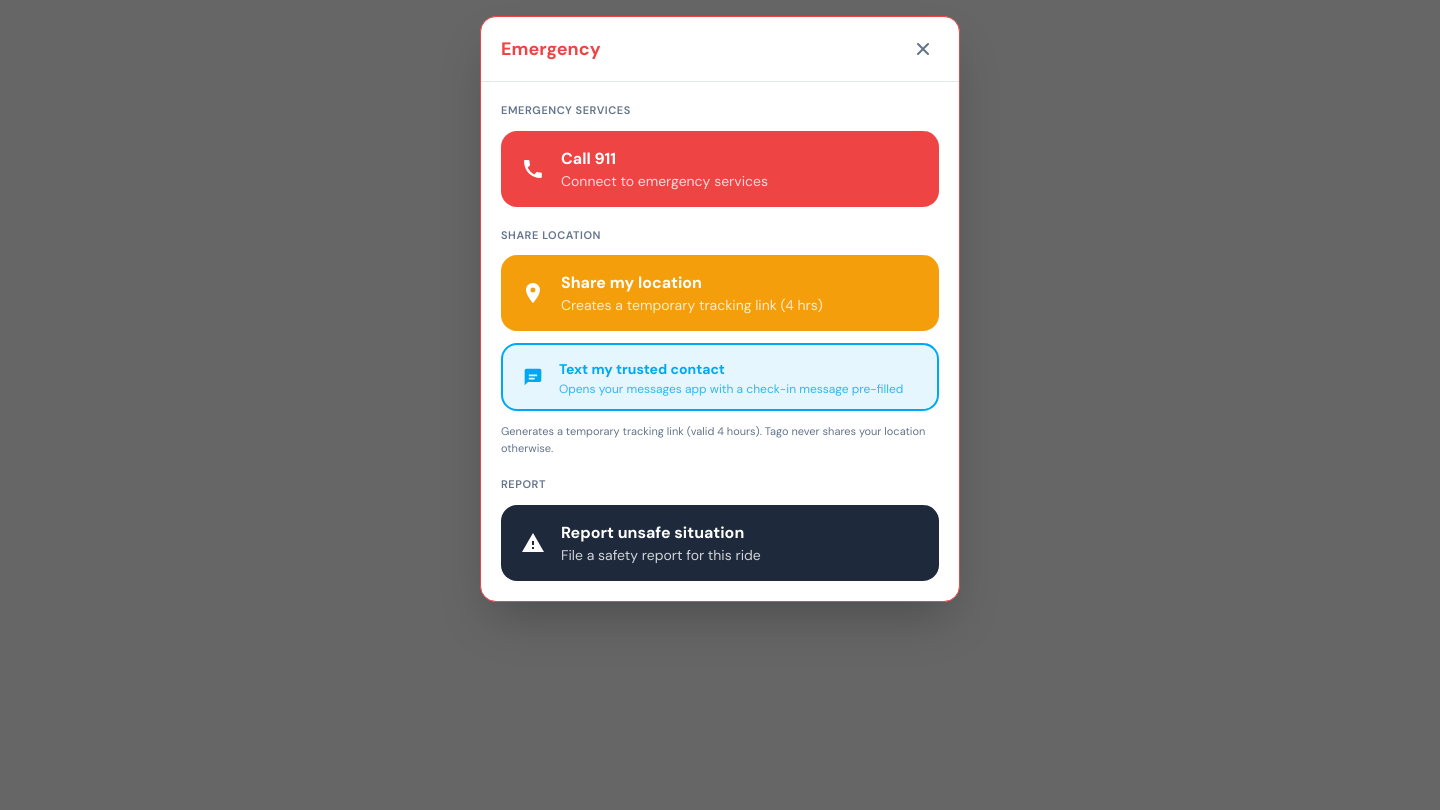
Test: EmergencySheet › Text trusted contacts on DESKTOP opens the desktop sms-fallback dialog (no sms: navigation)
The image size is (1440, 810).
Click the button with test id "emergency-text-trusted-contacts".
click(720, 377)  # box [501,343,939,411]
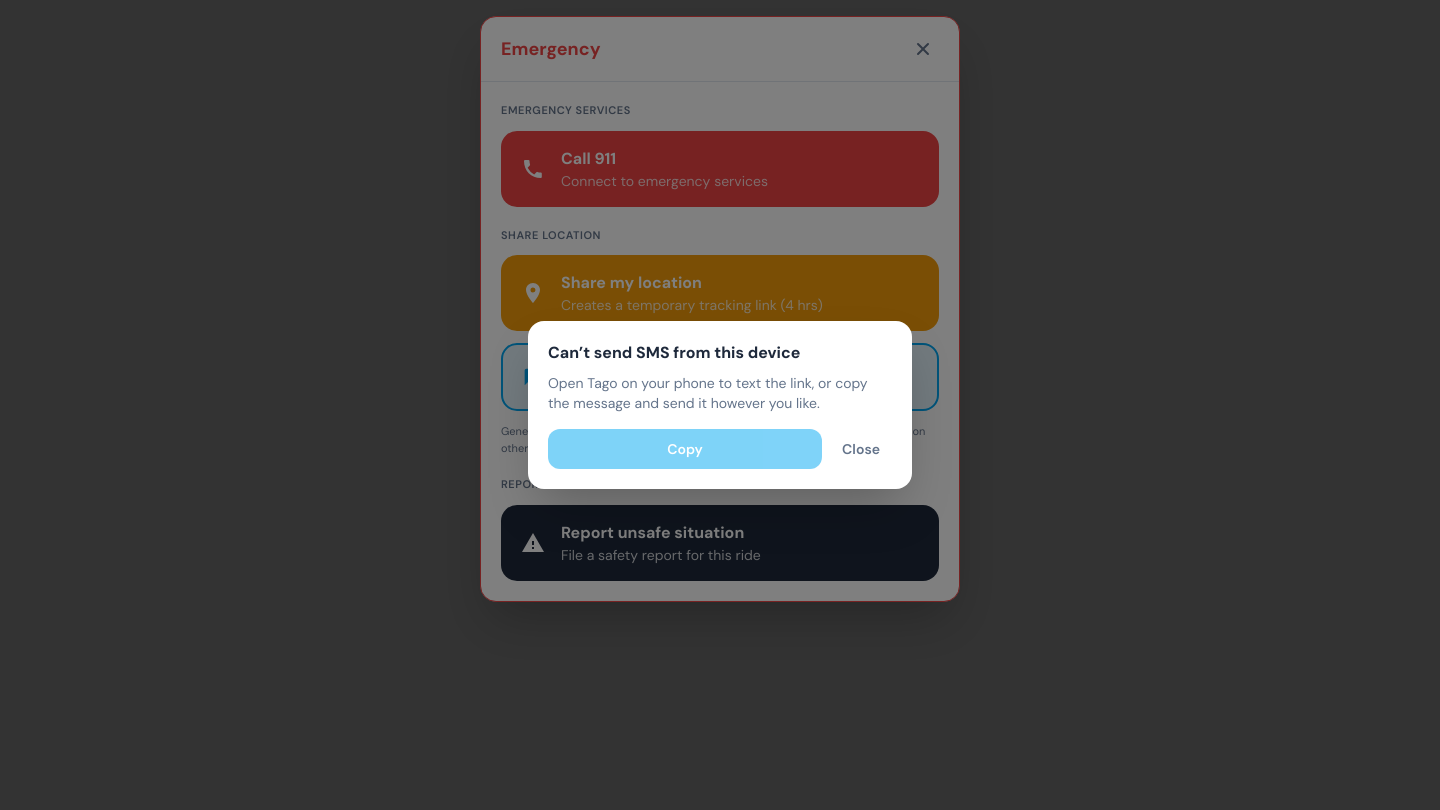
Expected: the dialog with test id "emergency-sms-desktop-fallback" is shown
Expected: the heading "Can’t send SMS from this device" is shown, [548,342,800,363]
